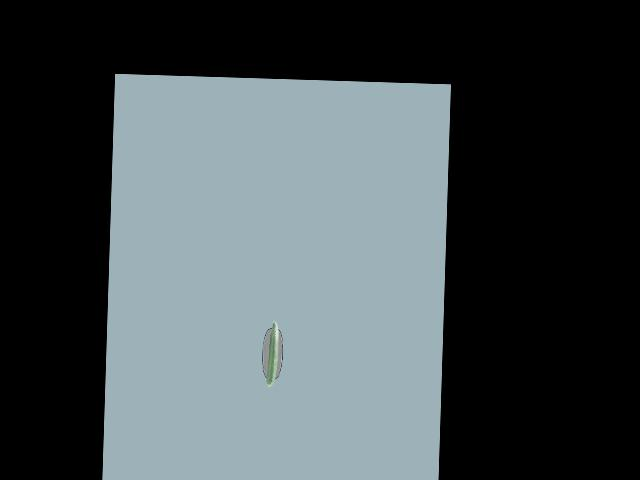cucumber: (266, 320, 278, 386)
